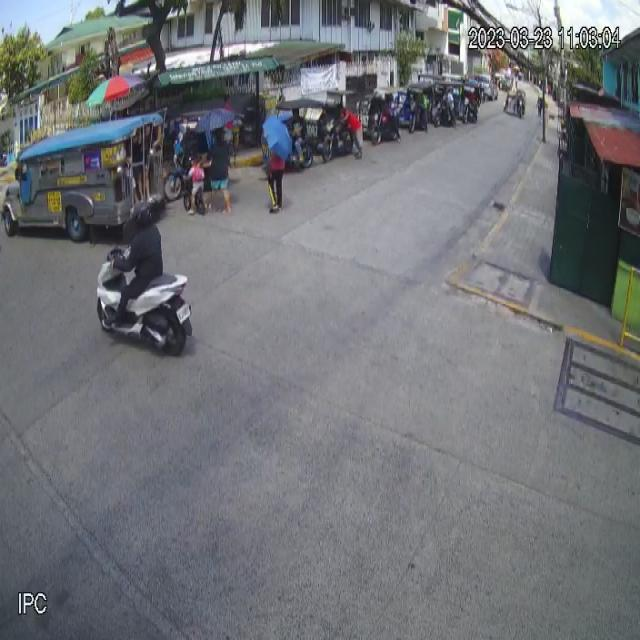Jeep: (0, 112, 166, 241)
Motorcycle: (94, 244, 194, 349)
